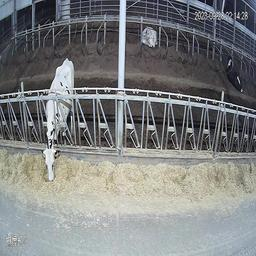cow: (40, 56, 75, 183), (226, 56, 244, 103), (142, 26, 158, 47)
